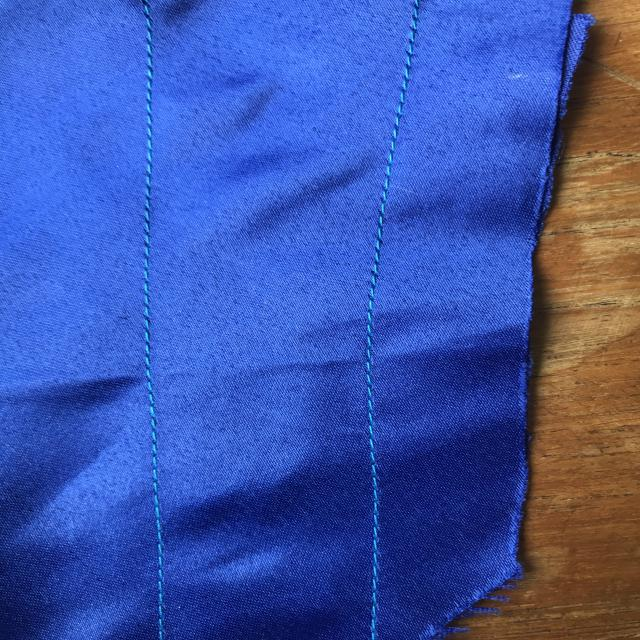good: (130, 158, 165, 297)
